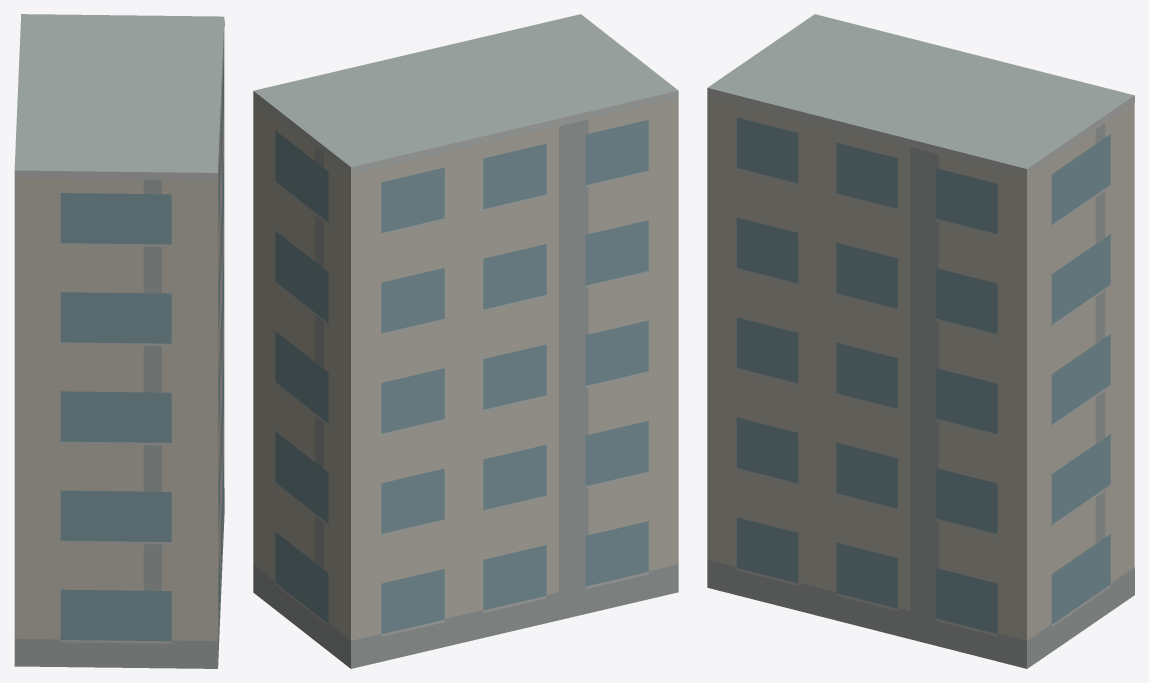
File: survey-upis-32788665.glb
The picture shows the model from 3 angles, left to right: view 1: azimuth 30°, elevation 25°; view 2: azimuth 150°, elevation 25°; view 3: azimuth 270°, elevation 25°; orthographic projection.
Parts seen in each view (by area): view 1: survey-upis-32788665.tmp; view 2: survey-upis-32788665.tmp; view 3: survey-upis-32788665.tmp.
Part boxes in pixels (x1,y1,x2,y2): survey-upis-32788665.tmp: [14, 14, 224, 668]; survey-upis-32788665.tmp: [253, 14, 678, 668]; survey-upis-32788665.tmp: [707, 14, 1134, 668].
Bounding box in the file's own units: 10.58 × 15.9 × 12.33.
